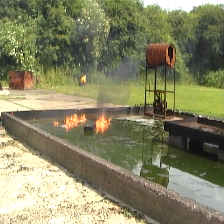fire_h: (63, 113, 86, 132)
fire_l: (95, 113, 112, 132), (53, 120, 58, 127)
